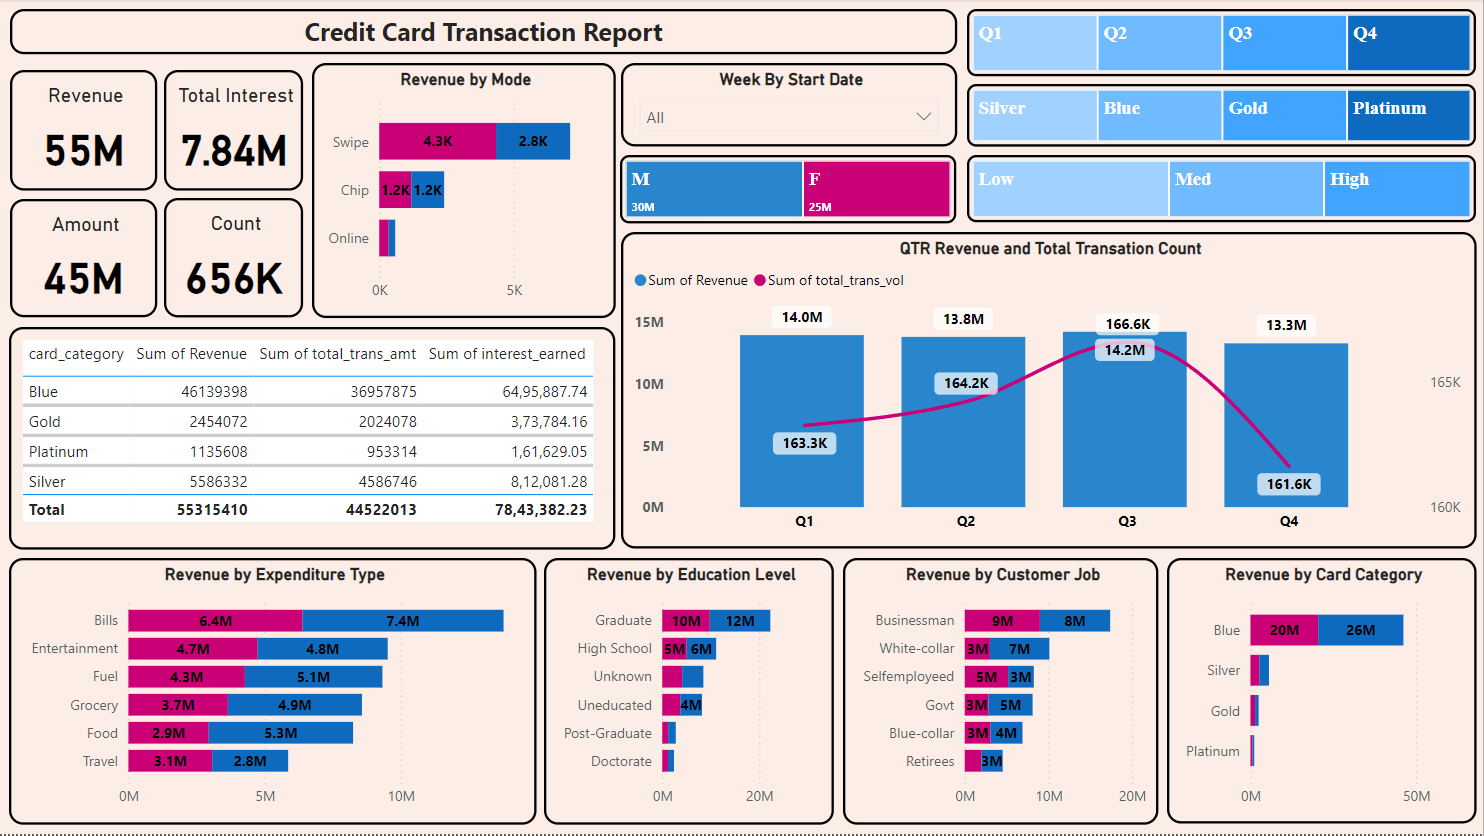

The page's visual inventory and layout, read from the dashboard file:
{"tool":"powerbi","page":{"name":"Credit_Card_Transactions_Report","canvas":[1280,720],"ordinal":0},"visuals":[{"type":"textbox","box":[9.2,8.3,816.6,39.5],"z":0},{"type":"lineStackedColumnComboChart","title":"QTR Revenue and Total Transation Count","fields":{"Category":["public customer_card_transactions.qtr"],"Y":["Sum(public customer_card_transactions.Revenue)"],"Y2":["Sum(public customer_card_transactions.total_trans_vol)"]},"box":[536.2,201.3,737.5,273.3],"z":1000},{"type":"barChart","title":"Revenue by Expenditure Type","fields":{"Category":["public customer_card_transactions.exp_type"],"Y":["Sum(public customer_card_transactions.Revenue)"],"Series":["public customer_profile.gender"]},"box":[8.3,482,454.8,229.5],"z":2000},{"type":"barChart","title":"Revenue by Education Level","fields":{"Y":["Sum(public customer_card_transactions.Revenue)"],"Category":["public customer_profile.education_level"],"Series":["public customer_profile.gender"]},"box":[470.5,482,250.4,229.5],"z":3000},{"type":"barChart","title":"Revenue by Customer Job","fields":{"Y":["Sum(public customer_card_transactions.Revenue)"],"Category":["public customer_profile.customer_job"],"Series":["public customer_profile.gender"]},"box":[728.1,482,272.3,229.5],"z":4000},{"type":"barChart","title":"Revenue by Card Category","fields":{"Category":["public customer_card_transactions.card_category"],"Y":["Sum(public customer_card_transactions.Revenue)"],"Series":["public customer_profile.gender"]},"box":[1007.4,482.2,266.5,229.4],"z":5000},{"type":"barChart","title":"Revenue by Mode","fields":{"Y":["CountNonNull(public customer_card_transactions.card_category)"],"Category":["public customer_card_transactions.use_chip"],"Series":["public customer_profile.gender"]},"box":[269.8,55.1,261.5,220.2],"z":6000},{"type":"tableEx","fields":{"Values":["public customer_card_transactions.card_category","Sum(public customer_card_transactions.Revenue)","Sum(public customer_card_transactions.total_trans_amt)","Sum(public customer_card_transactions.interest_earned)"]},"box":[8.3,282.6,523,191.8],"z":7000},{"type":"card","title":"Revenue","fields":{"Values":["Sum(public customer_card_transactions.Revenue)"]},"box":[9.2,61.5,126.6,103.7],"z":8000},{"type":"card","title":"Total Interest","fields":{"Values":["Sum(public customer_card_transactions.interest_earned)"]},"box":[142.2,61.5,120.2,103.7],"z":9000},{"type":"card","title":"Amount","fields":{"Values":["Sum(public customer_card_transactions.total_trans_amt)"]},"box":[9.2,172.5,126.6,101.8],"z":10000},{"type":"card","title":"Count","fields":{"Values":["Sum(public customer_card_transactions.total_trans_vol)"]},"box":[142.2,171.6,120.2,102.8],"z":11000},{"type":"slicer","title":"Week By Start Date","fields":{"Values":["public customer_card_transactions.week_start_date"]},"box":[536.2,55.3,290,72],"z":12000},{"type":"treemap","fields":{"Group":["public customer_card_transactions.qtr"],"Values":["Count(public customer_card_transactions.Revenue)"]},"box":[834.6,8.3,439.2,58.4],"z":13000},{"type":"treemap","fields":{"Group":["public customer_profile.gender"],"Values":["Sum(public customer_card_transactions.Revenue)"]},"box":[535.9,134.9,289.9,58.7],"z":14000},{"type":"treemap","fields":{"Values":["Avg(public customer_card_transactions.client_num)"],"Group":["public customer_card_transactions.card_category"]},"box":[834.6,73,439.2,54.2],"z":15000},{"type":"treemap","fields":{"Group":["public customer_profile.Income_Group"],"Values":["CountNonNull(public customer_card_transactions.client_num)"]},"box":[834.6,134.6,439.2,58.4],"z":16000}]}

Visuals, with their boxes in screenshot pixels (x1, y1, x2, y2), scaled from the page's 1280x720 canvas onto the 1484x836 screenshot:
textbox: l=11, t=10, r=957, b=56
"QTR Revenue and Total Transation Count" lineStackedColumnComboChart: l=622, t=234, r=1477, b=551
"Revenue by Expenditure Type" barChart: l=10, t=560, r=537, b=826
"Revenue by Education Level" barChart: l=545, t=560, r=836, b=826
"Revenue by Customer Job" barChart: l=844, t=560, r=1160, b=826
"Revenue by Card Category" barChart: l=1168, t=560, r=1477, b=826
"Revenue by Mode" barChart: l=313, t=64, r=616, b=320
tableEx - public customer_card_transactions.card_category x Sum(public customer_card_transactions.Revenue): l=10, t=328, r=616, b=551
"Revenue" card: l=11, t=71, r=157, b=192
"Total Interest" card: l=165, t=71, r=304, b=192
"Amount" card: l=11, t=200, r=157, b=318
"Count" card: l=165, t=199, r=304, b=319
"Week By Start Date" slicer: l=622, t=64, r=958, b=148
treemap - public customer_card_transactions.qtr x Count(public customer_card_transactions.Revenue): l=968, t=10, r=1477, b=77
treemap - public customer_profile.gender x Sum(public customer_card_transactions.Revenue): l=621, t=157, r=957, b=225
treemap - Avg(public customer_card_transactions.client_num) x public customer_card_transactions.card_category: l=968, t=85, r=1477, b=148
treemap - public customer_profile.Income_Group x CountNonNull(public customer_card_transactions.client_num): l=968, t=156, r=1477, b=224
